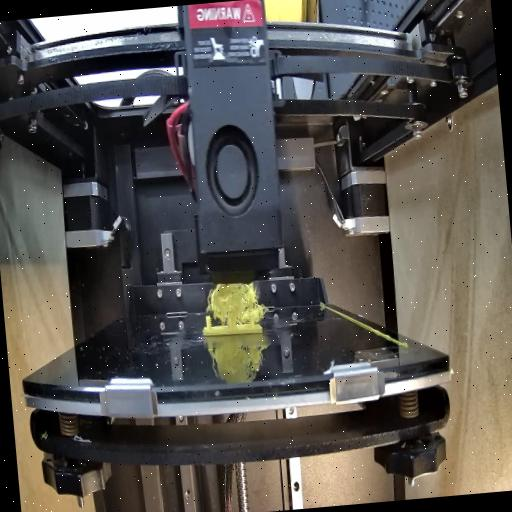spaghetti: (200, 277, 271, 327)
